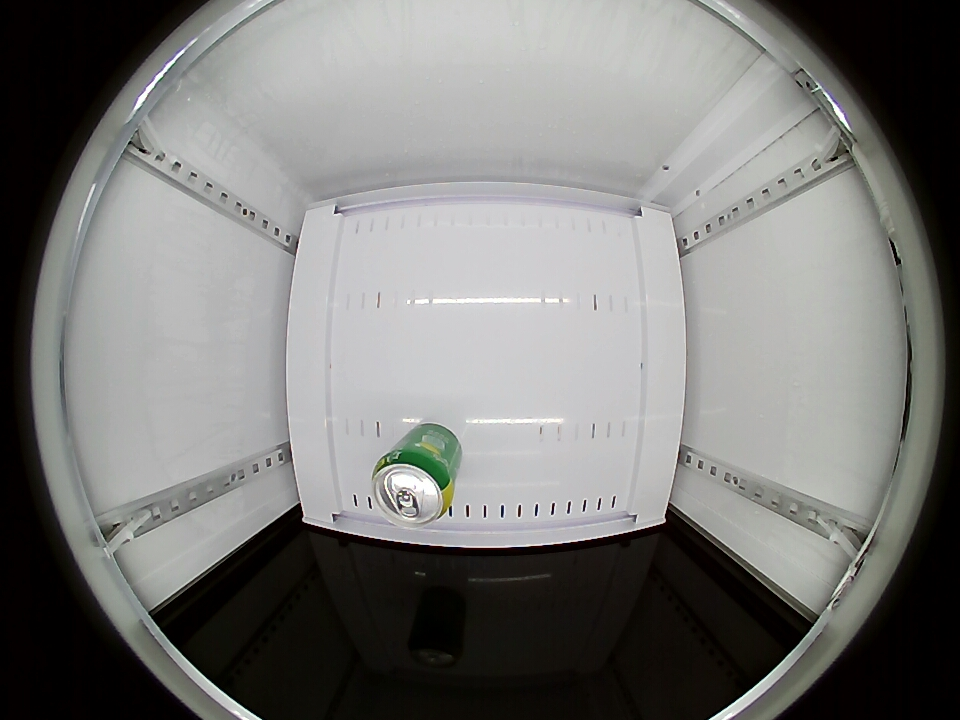xuebi2: (371, 447, 457, 526)
